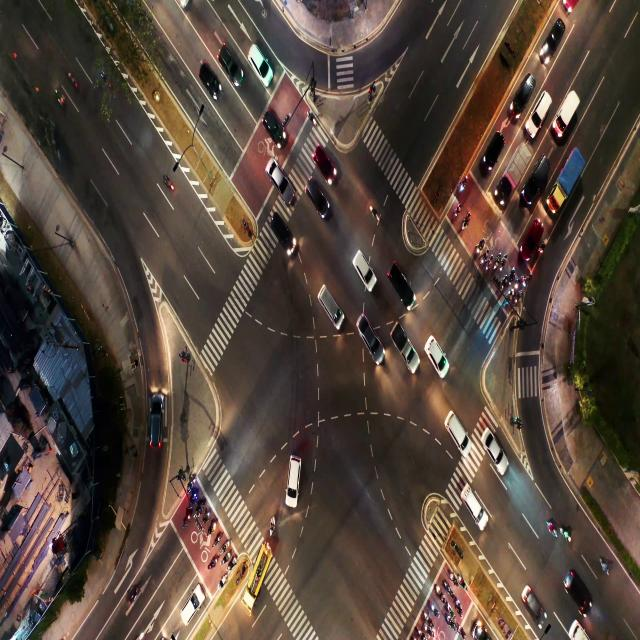bus: (254, 566, 264, 588)
car: (288, 462, 304, 494), (150, 395, 162, 437), (251, 51, 267, 76), (449, 412, 463, 439), (430, 341, 444, 366), (567, 574, 582, 597), (265, 163, 282, 182), (308, 179, 320, 205), (487, 437, 501, 459), (322, 288, 334, 313), (219, 51, 233, 71), (270, 212, 282, 235), (184, 593, 195, 617), (262, 114, 275, 134), (526, 585, 536, 611), (524, 230, 538, 248), (318, 150, 330, 170), (392, 266, 404, 286), (359, 318, 371, 338), (547, 32, 557, 54), (466, 492, 478, 509), (533, 101, 543, 121), (357, 251, 366, 273), (536, 169, 545, 187), (518, 88, 526, 105), (203, 71, 210, 88), (487, 141, 495, 154)
motorcycle: (162, 175, 175, 192), (598, 556, 609, 574), (56, 88, 65, 108), (307, 110, 317, 128), (70, 73, 78, 93), (128, 588, 140, 600), (101, 73, 111, 87), (268, 516, 276, 532), (565, 528, 571, 542), (550, 524, 556, 538), (208, 558, 214, 570), (371, 210, 378, 220), (415, 625, 421, 635), (508, 274, 513, 285), (459, 626, 464, 637), (424, 626, 431, 633), (203, 513, 207, 525), (221, 579, 226, 588), (209, 523, 214, 531), (477, 243, 482, 251), (486, 262, 491, 270), (493, 262, 498, 270), (214, 535, 220, 541), (463, 218, 467, 227), (514, 296, 518, 305), (450, 571, 454, 580), (523, 279, 528, 286), (460, 182, 464, 190), (501, 282, 505, 290), (455, 206, 458, 216), (423, 612, 428, 618), (188, 480, 192, 487), (222, 542, 226, 549), (540, 246, 544, 253), (508, 294, 512, 301), (444, 580, 448, 587), (230, 559, 233, 568), (481, 254, 484, 263), (197, 506, 201, 512), (436, 586, 439, 594), (192, 493, 195, 500), (456, 599, 459, 606), (515, 283, 518, 289), (447, 602, 450, 608), (431, 604, 434, 610), (186, 514, 188, 522), (500, 265, 503, 270), (459, 577, 462, 582), (224, 556, 226, 562), (448, 617, 450, 623)
truck: (396, 332, 408, 353), (564, 164, 574, 187), (510, 158, 519, 178), (565, 100, 574, 116)
